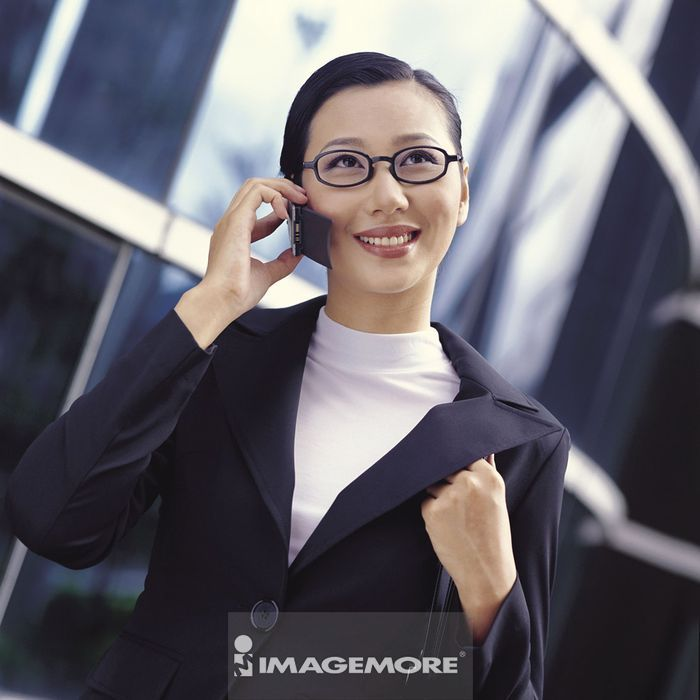talk: (203, 115, 446, 331)
